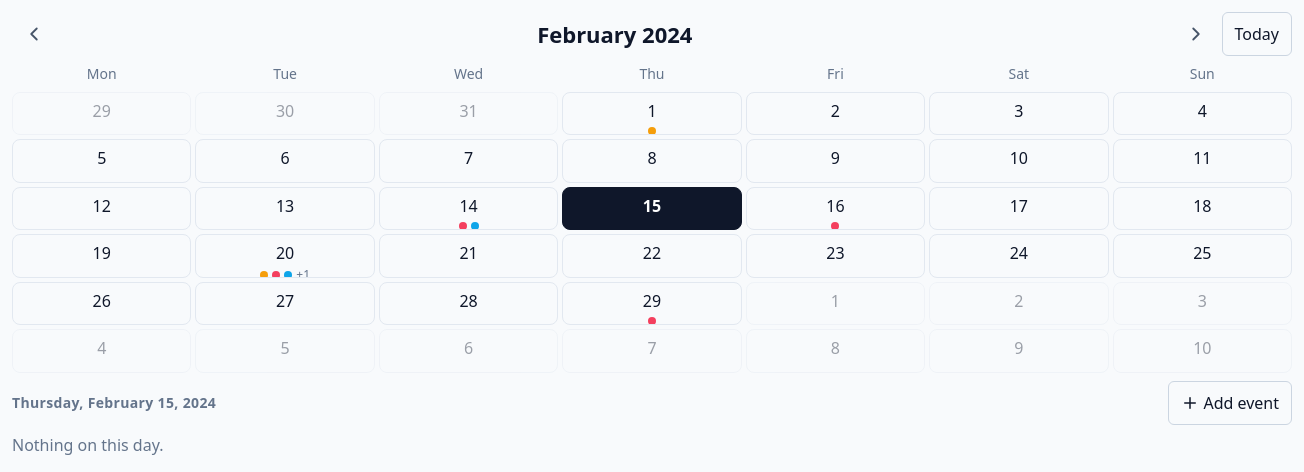
Test: Calendar — navigation › steps forward and back a month, refetching each time
Expected: the heading "February 2024" is shown, top-left (537, 19), bottom-right (692, 49)
Click the button named "Next month" at (1196, 34), box top-left (1174, 12), bottom-right (1218, 56)
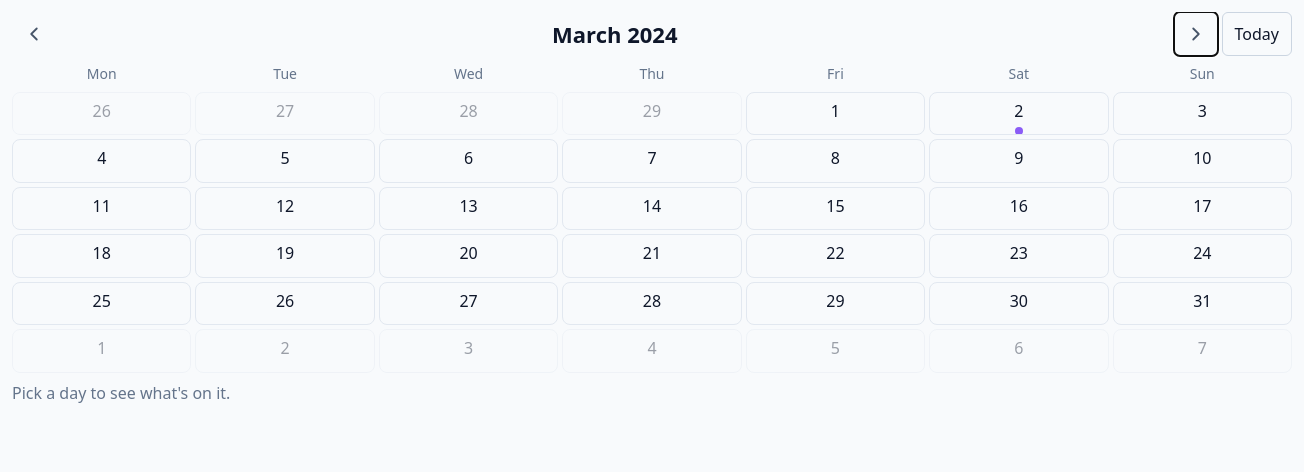
Result: the heading "March 2024" is shown at top-left (552, 19), bottom-right (678, 49)
Click the button named "Previous month" at (34, 34), box top-left (12, 12), bottom-right (56, 56)
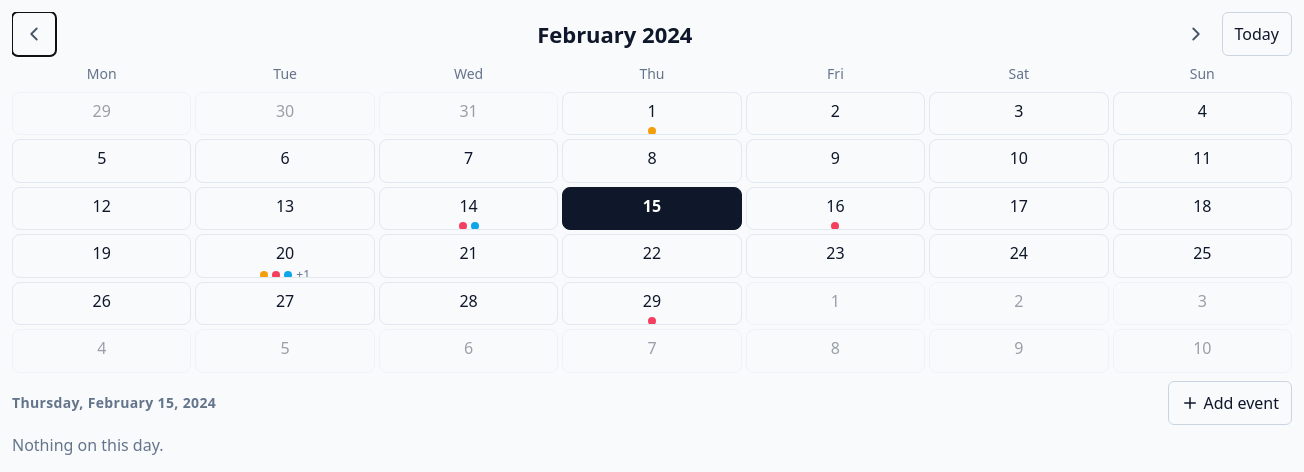
Result: the heading "February 2024" is shown at top-left (537, 19), bottom-right (692, 49)
Click the button named "Previous month" at (34, 34), box top-left (12, 12), bottom-right (56, 56)
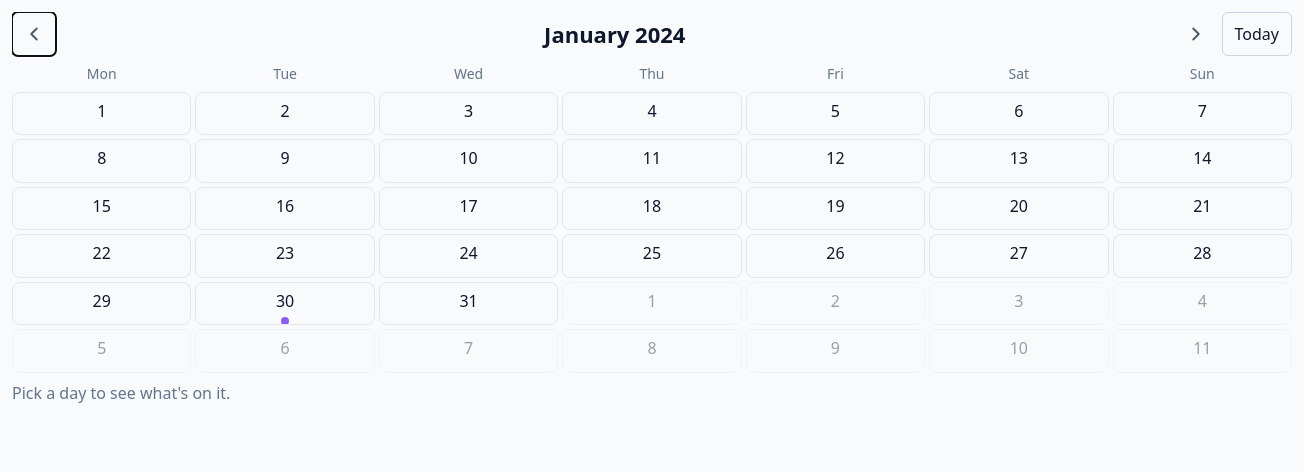
Result: the heading "January 2024" is shown at top-left (544, 19), bottom-right (685, 49)
